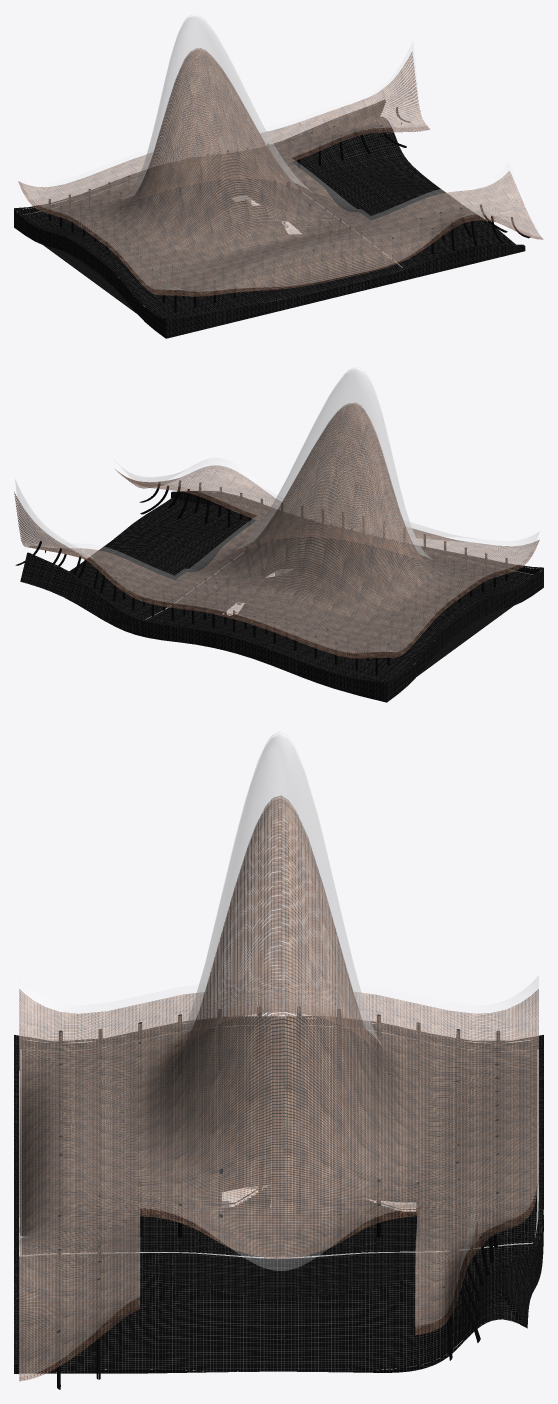
3 renders of one model, top to bottom at view 1: azimuth 30°, elevation 25°; view 2: azimuth 150°, elevation 25°; view 3: azimuth 270°, elevation 25°, orthographic. The views are drawn at different scales.
Visible parts, largest first — view 1: Reflective Glass, Ceiling, Merged Objects 1, Merged Objects 2, Colonne; view 2: Reflective Glass, Ceiling, Merged Objects 1, Merged Objects 2, Colonne; view 3: Reflective Glass, Ceiling, Merged Objects 1, Colonne, Merged Objects 2, Walls_Int.
Part boxes in pixels (x1,y1,x2,y2): Reflective Glass: (18, 14, 542, 291); Ceiling: (18, 48, 543, 296); Merged Objects 1: (21, 116, 517, 318); Merged Objects 2: (14, 100, 525, 338); Colonne: (48, 107, 530, 312); Reflective Glass: (15, 367, 539, 653); Ceiling: (14, 403, 539, 658); Merged Objects 1: (69, 498, 536, 682); Merged Objects 2: (20, 491, 543, 702); Colonne: (15, 480, 507, 675); Reflective Glass: (19, 731, 538, 1376); Ceiling: (18, 795, 538, 1381); Merged Objects 1: (19, 1025, 536, 1373); Colonne: (56, 1007, 500, 1389); Merged Objects 2: (14, 1016, 543, 1373); Walls_Int: (20, 1025, 538, 1258).
Size of the model in its own units: 154 by 94.51 by 107.
Materials: 12 (9 with a texture image).
